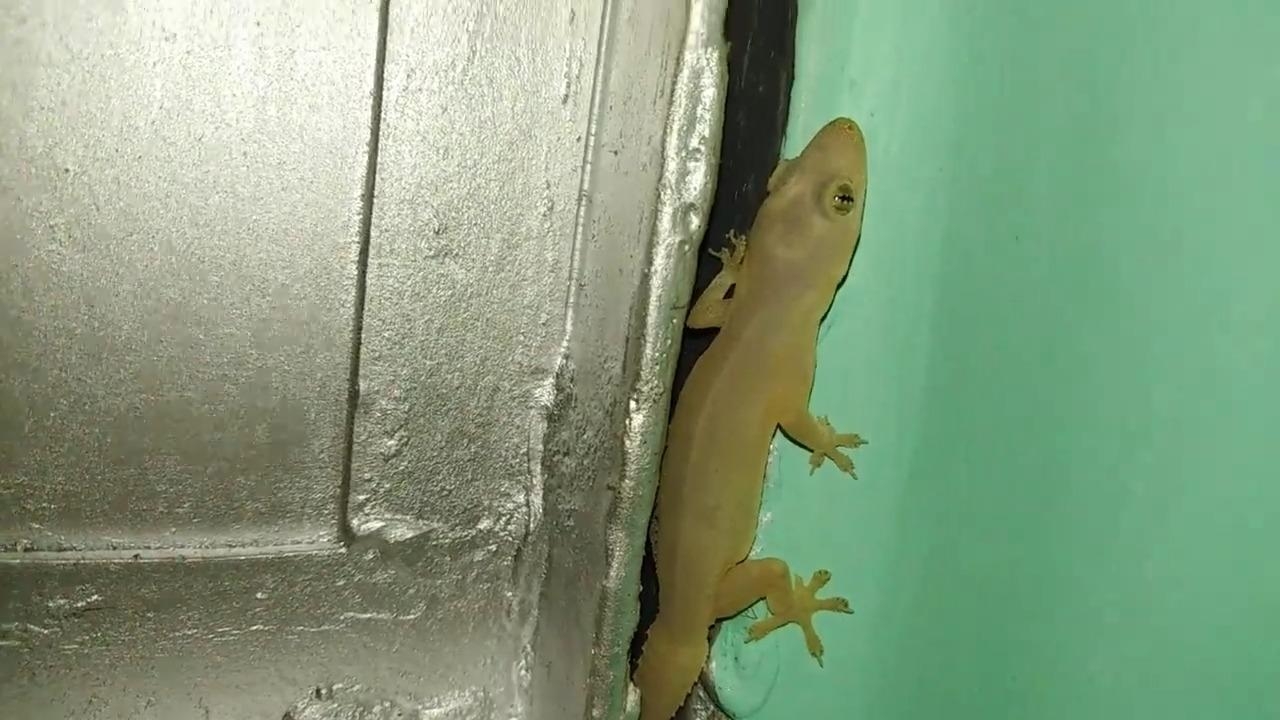lizard: (644, 100, 883, 720)
